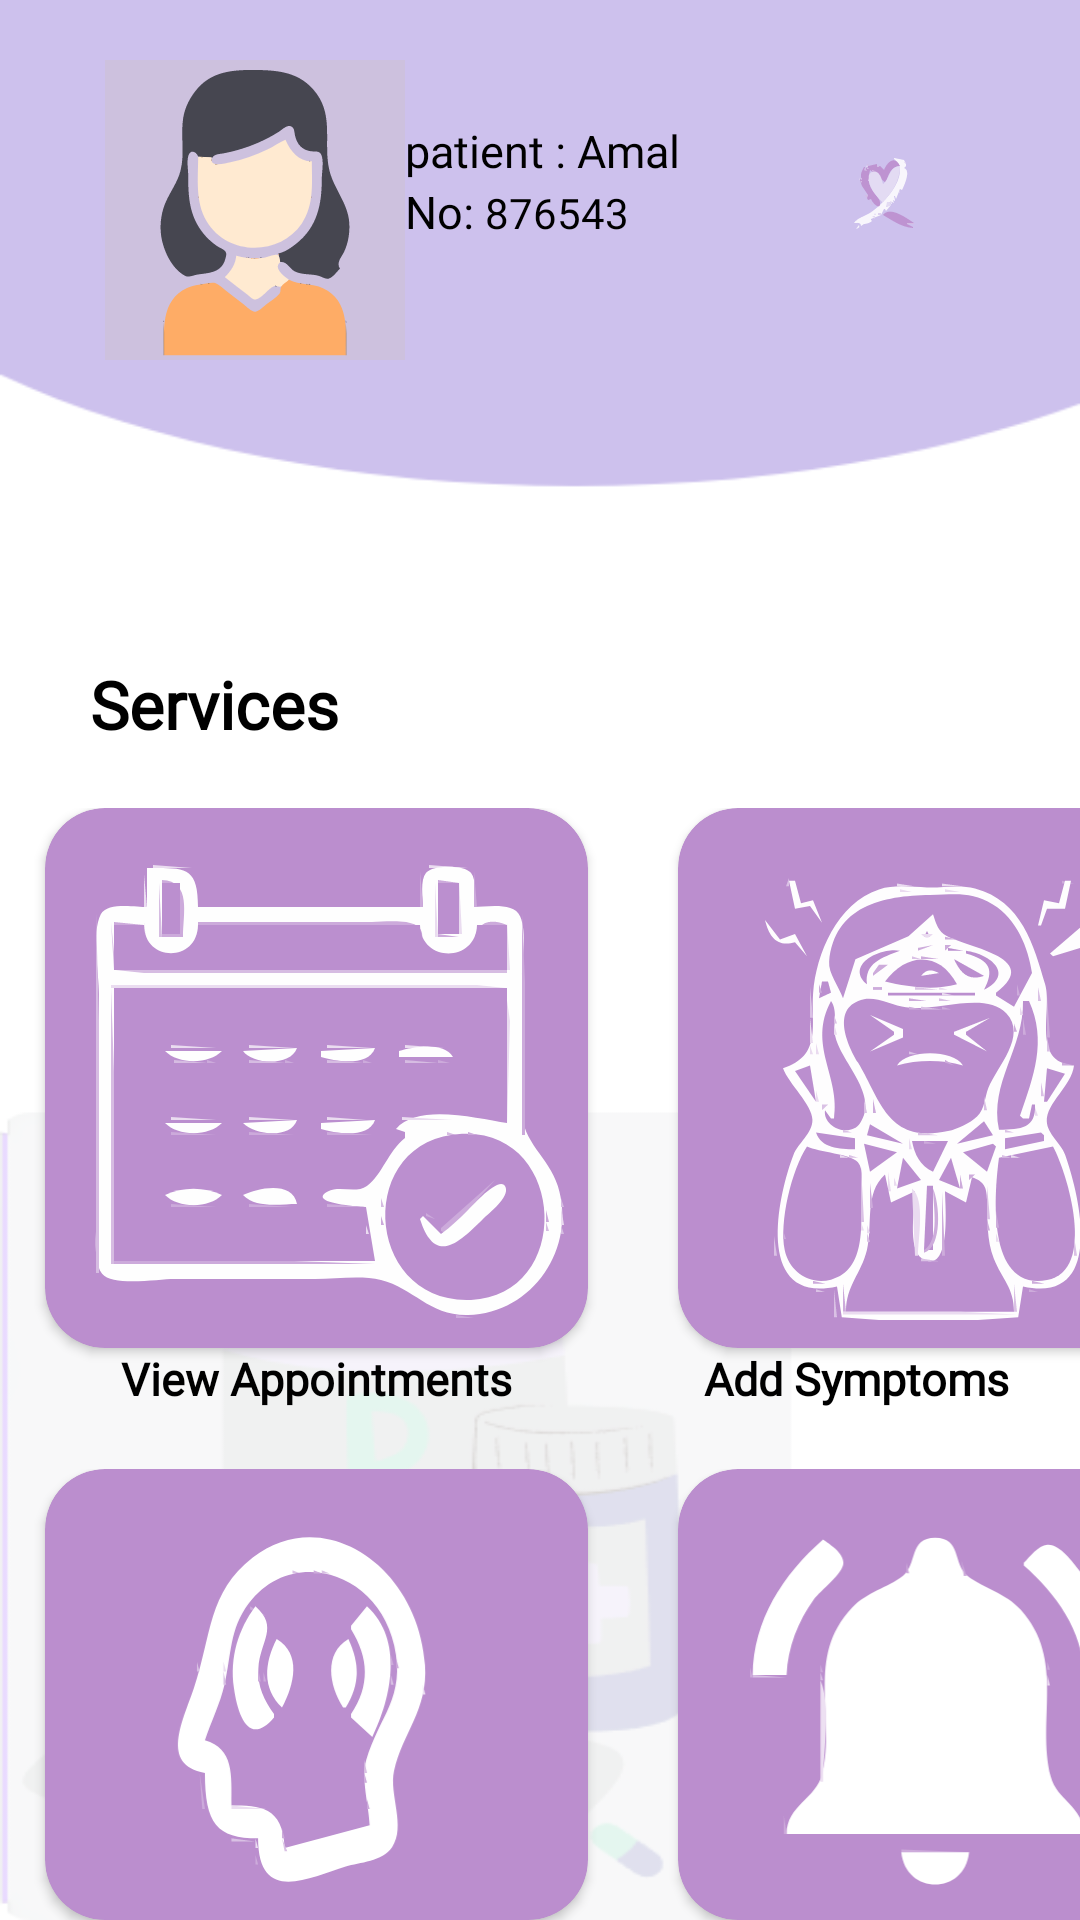

Icon click points for this 1080x1920 phone screenshot, format (x,y):
heart: (883,193)
person: (255,213)
